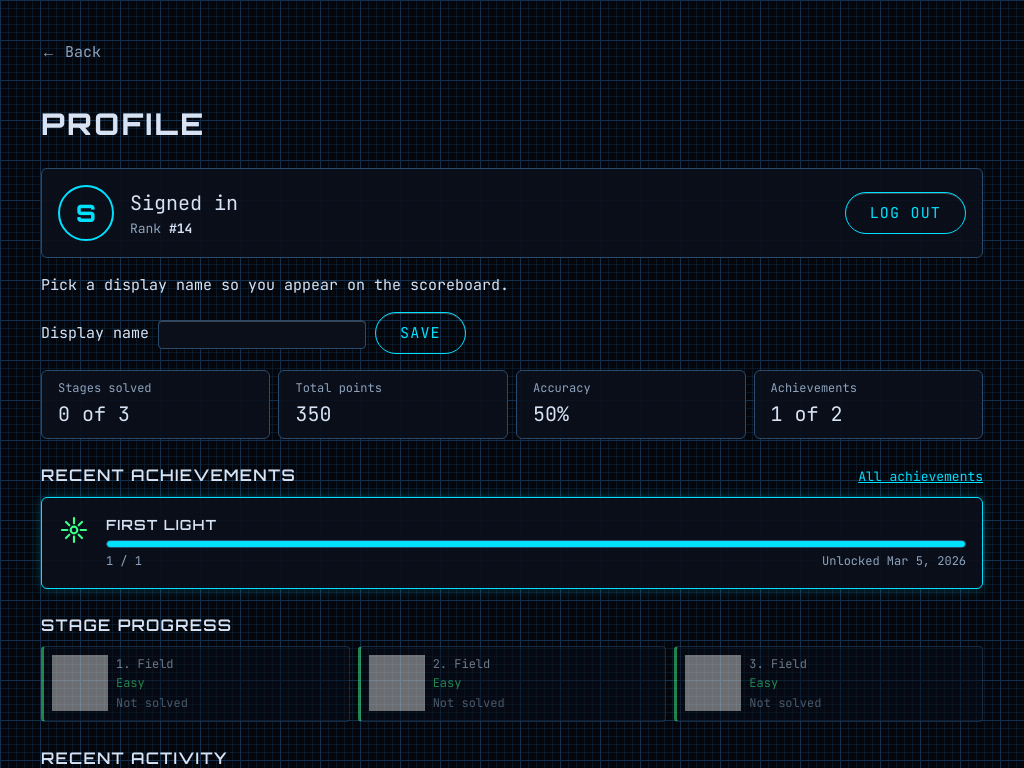
Test: ProfileScreen › says when the one-time name is taken and rejects an invalid one
Expected: the text "Stages solved" is shown, [58, 380, 152, 396]
In the field labelled "Display name": (262, 335) [158, 320, 366, 349], type "x"
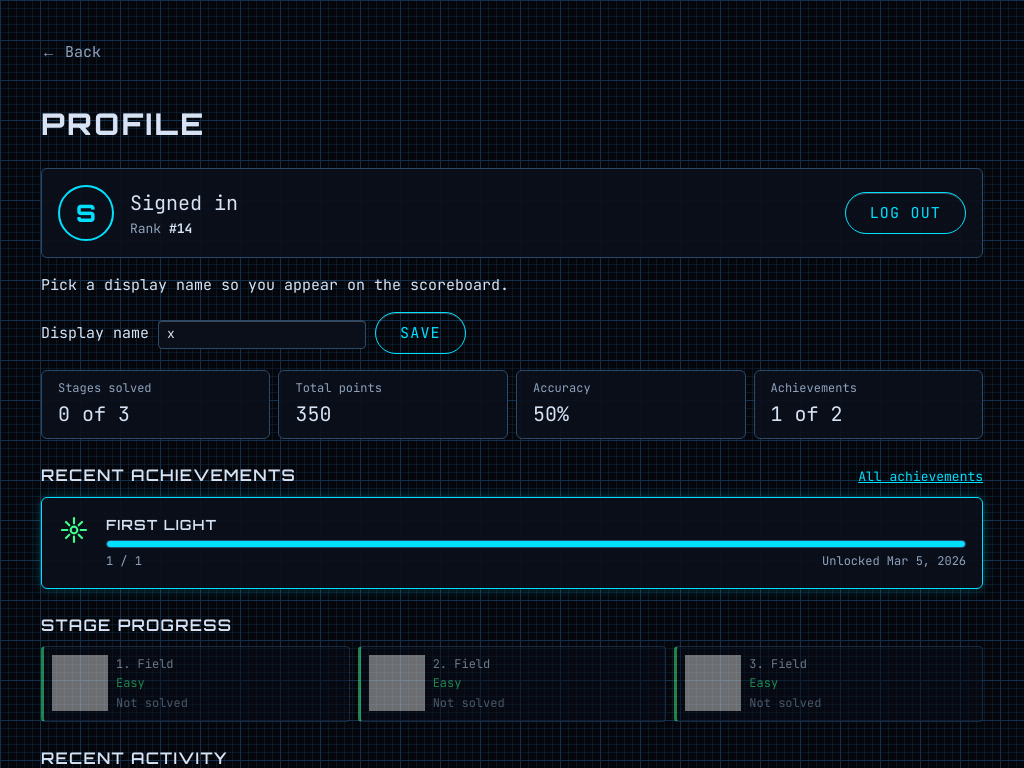
Click the button "Save": (420, 333) [375, 312, 466, 354]
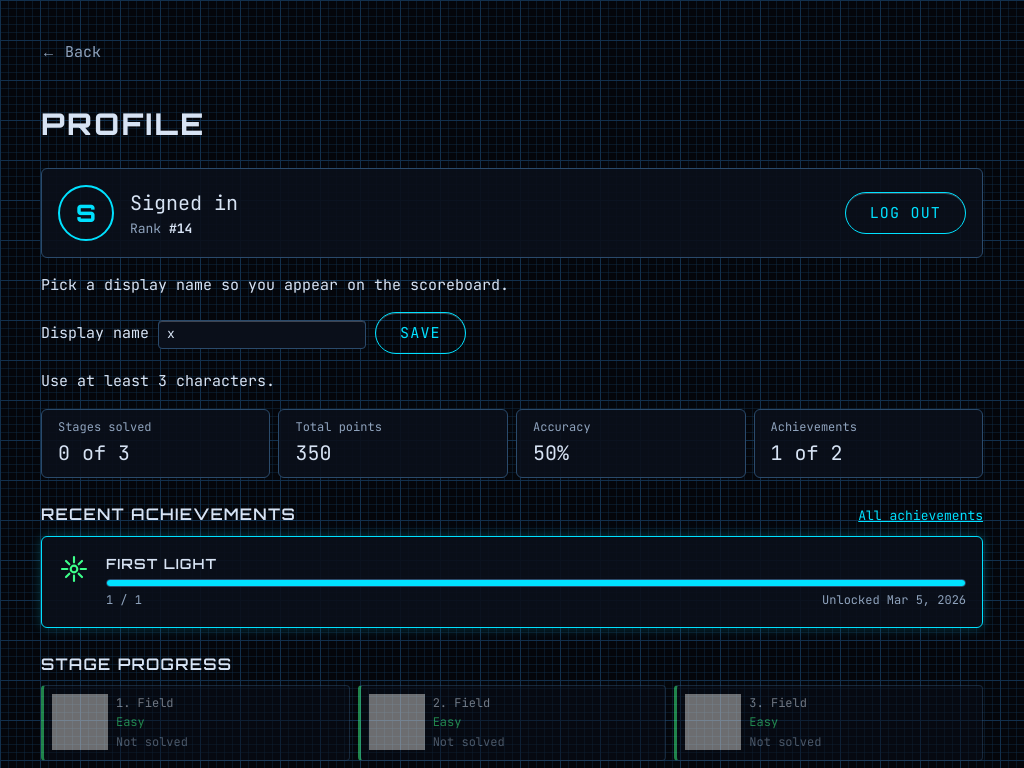
Result: the text "Use at least 3 characters." is shown at [41, 371, 275, 391]
Replace the text in the field labelled "Display name" with "Nova": (262, 335) [158, 320, 366, 349]
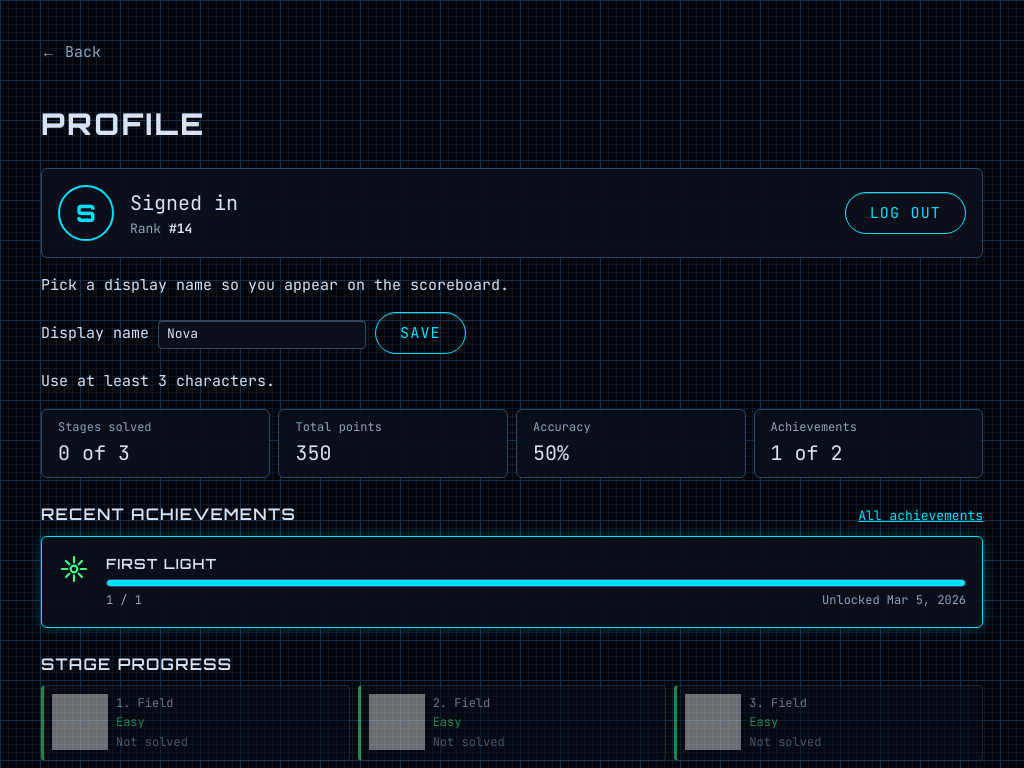
Click the button "Save": (420, 333) [375, 312, 466, 354]
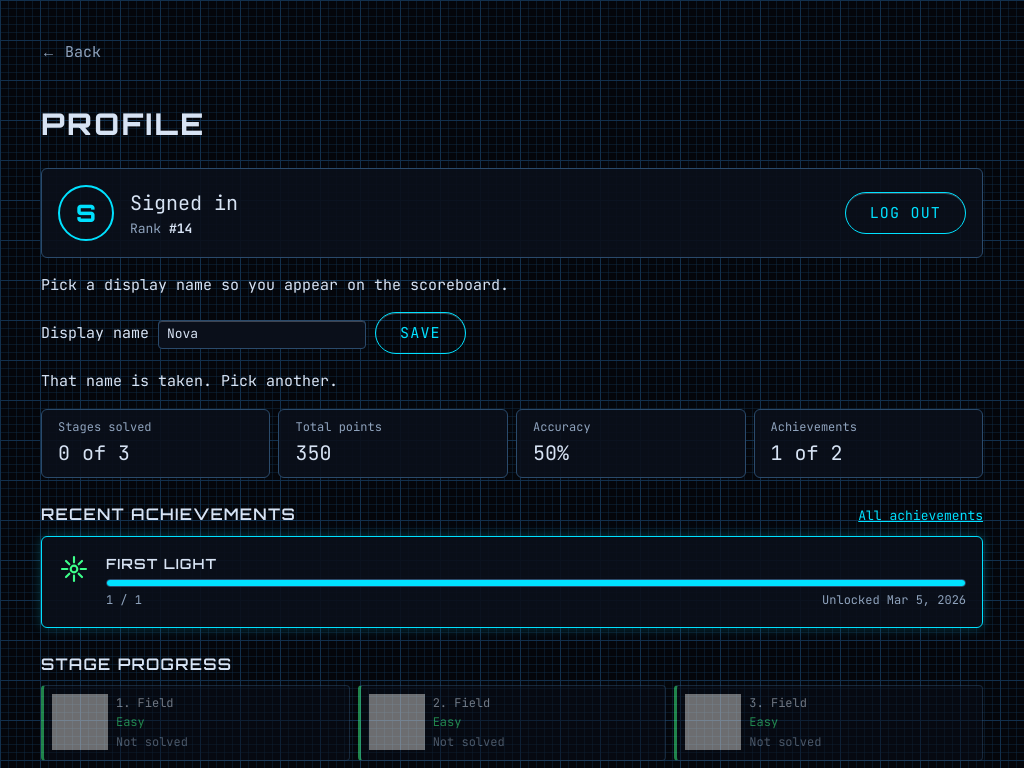
Result: the text "That name is taken. Pick another." is shown at [41, 371, 338, 391]
